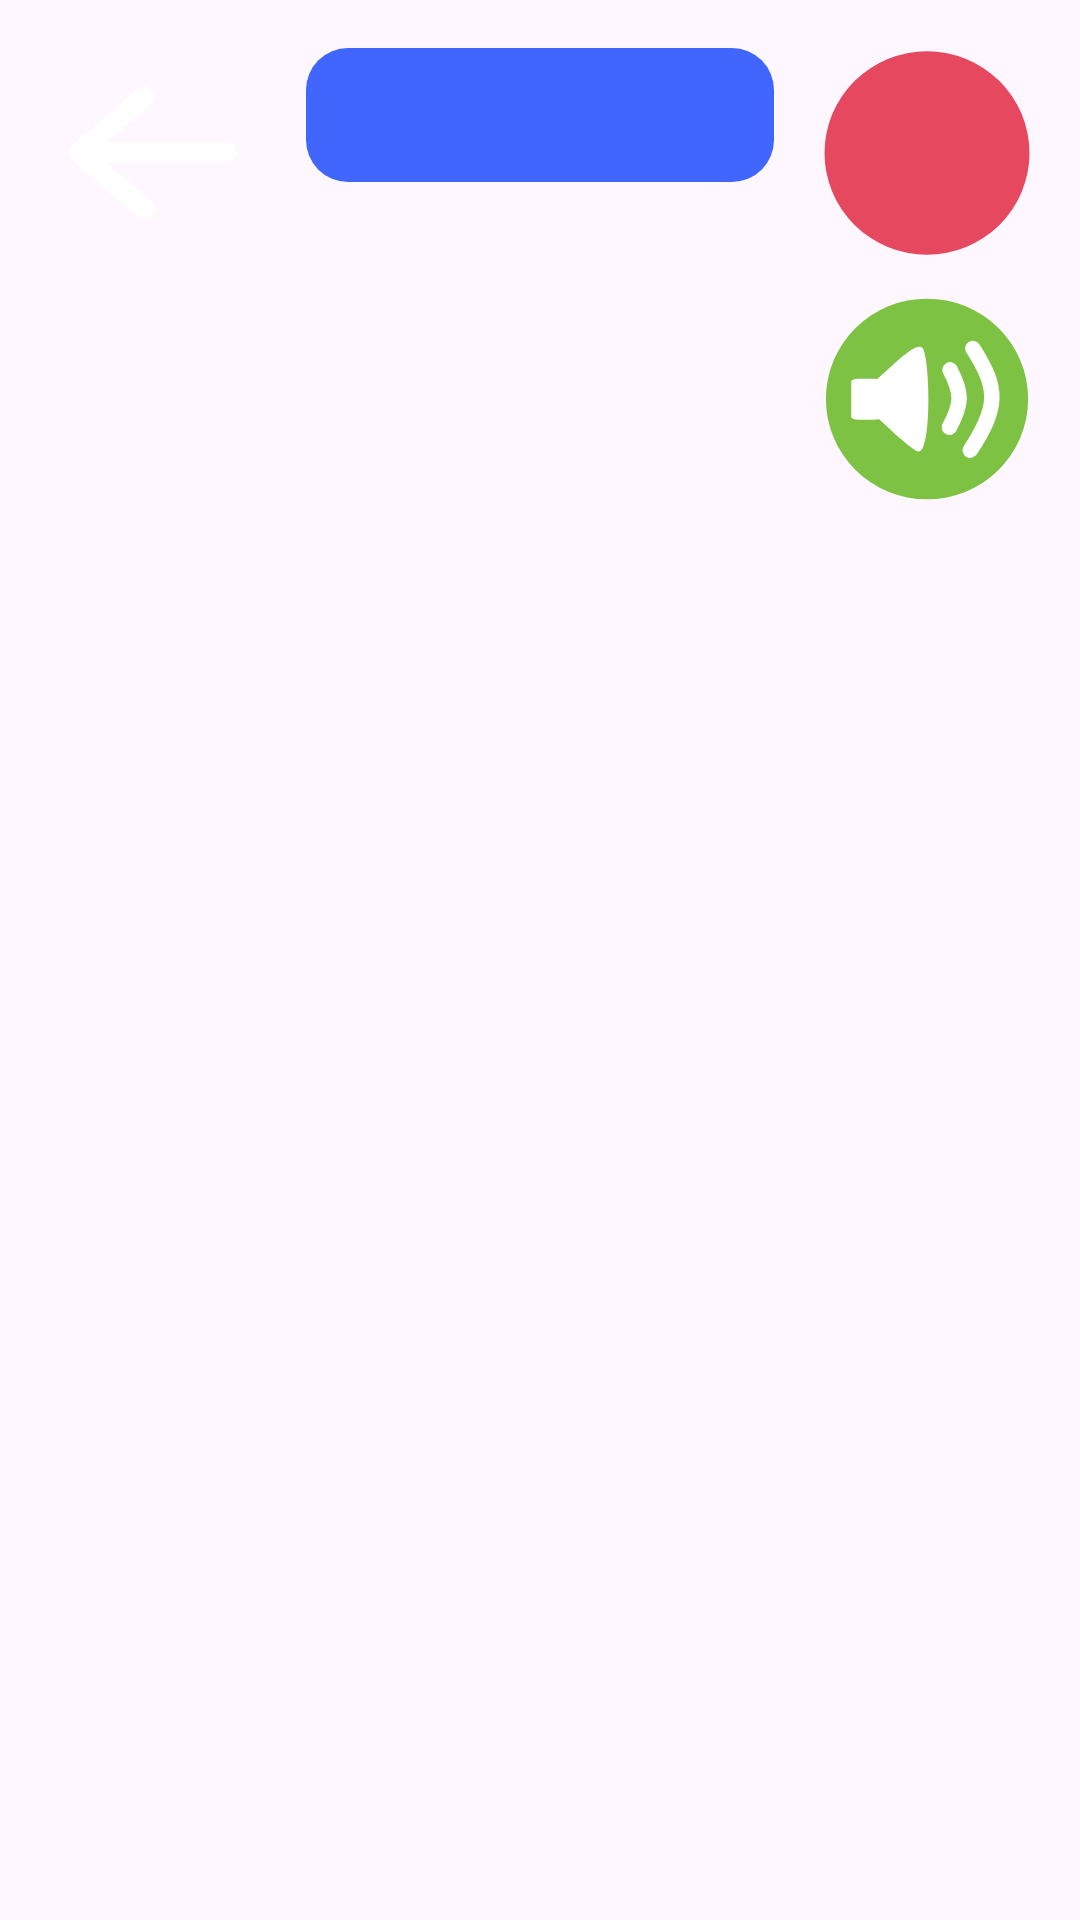

Point at icon controls on the screen. Image size 1080w x 1920h, points as point (x, y).
speaker: point (927, 399)
